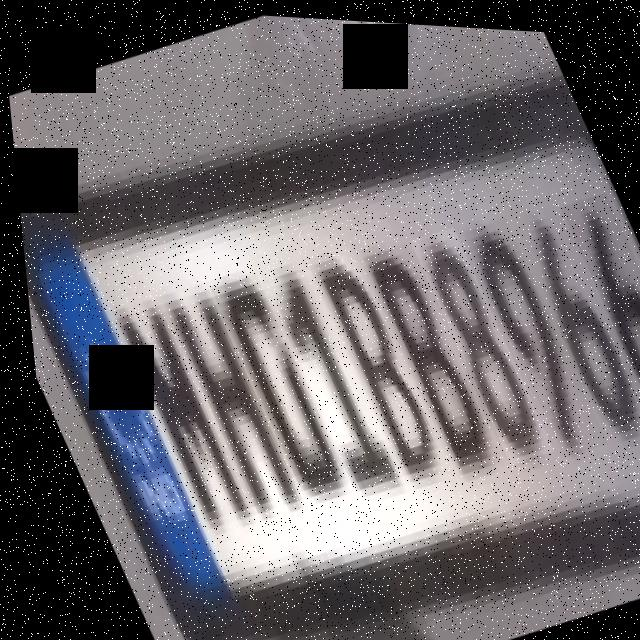0: (203, 267, 342, 495)
1: (258, 264, 398, 495)
6: (508, 199, 640, 433), (556, 183, 640, 421)
8: (405, 220, 548, 460)
9: (456, 209, 602, 455)
B: (358, 236, 497, 476), (310, 253, 445, 478)
H: (154, 280, 295, 518)
M: (99, 286, 236, 512)
